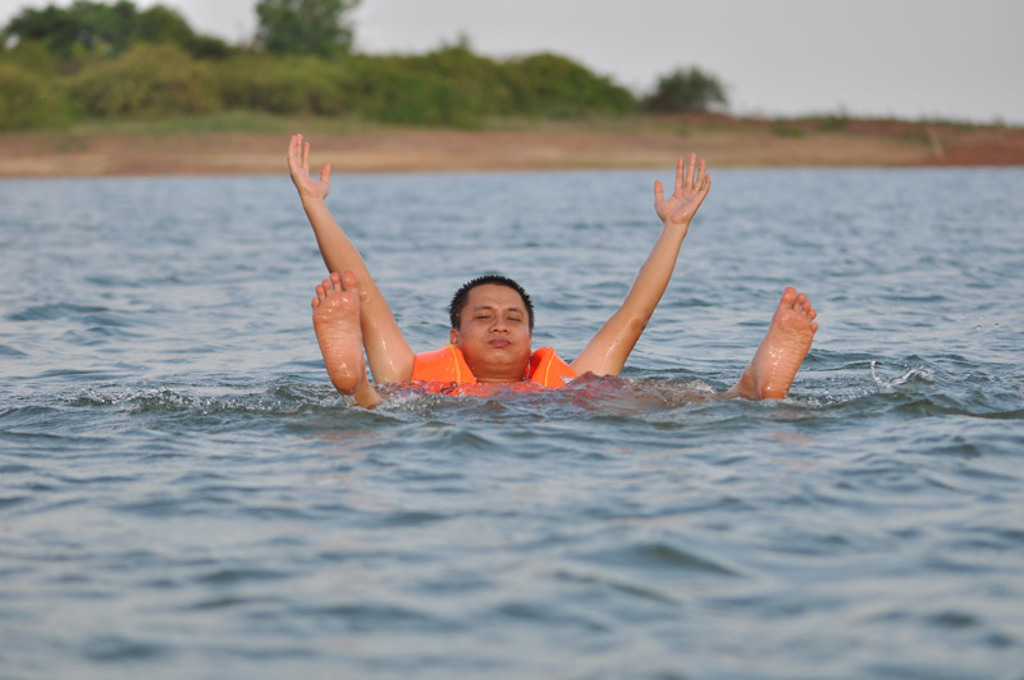Human_hand: (653, 151, 712, 227), (287, 135, 328, 202)
